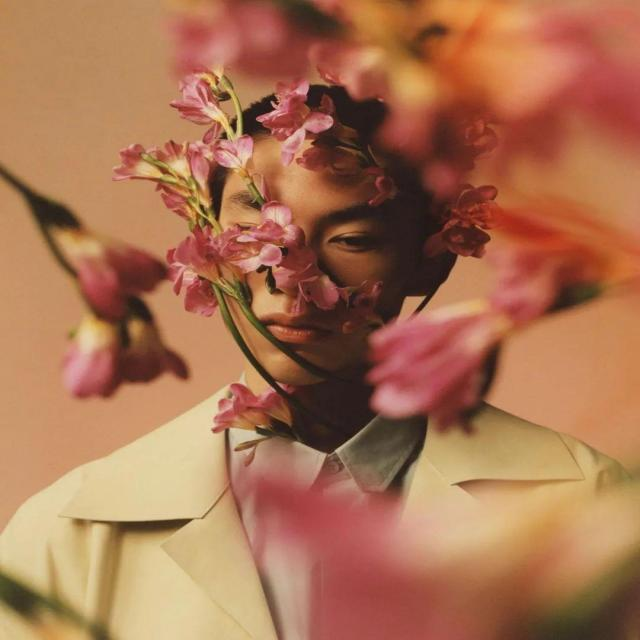organic waste: (364, 300, 524, 438), (38, 202, 170, 304), (59, 309, 187, 409), (162, 140, 226, 236), (106, 134, 180, 212), (245, 87, 338, 144), (243, 210, 306, 266), (199, 133, 260, 188), (175, 77, 242, 126), (441, 185, 503, 228), (442, 218, 502, 262), (281, 260, 331, 310)
